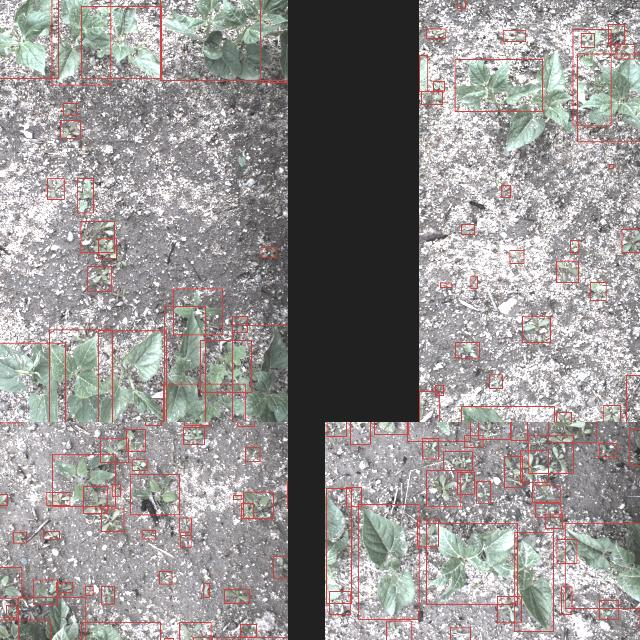crop: (159, 0, 288, 79), (426, 522, 516, 604), (358, 504, 418, 618), (564, 522, 640, 608), (97, 330, 165, 422), (48, 329, 111, 422), (80, 7, 162, 78), (576, 53, 640, 141), (231, 324, 288, 422), (0, 342, 65, 422), (51, 0, 110, 84), (163, 305, 204, 422), (454, 59, 542, 111), (0, 0, 57, 77), (514, 532, 552, 630), (17, 596, 85, 640), (326, 488, 350, 602), (260, 0, 288, 82), (460, 405, 554, 422), (80, 622, 159, 640), (0, 619, 50, 640), (418, 390, 438, 422), (418, 54, 428, 92)
weed: (572, 29, 610, 126), (163, 382, 245, 422), (52, 454, 115, 506), (199, 340, 251, 392), (172, 288, 222, 334), (130, 474, 180, 514), (528, 435, 574, 473), (426, 469, 460, 506), (406, 422, 469, 440), (80, 220, 114, 252), (548, 422, 596, 442), (520, 451, 548, 482), (243, 491, 273, 517), (522, 316, 550, 342), (100, 438, 128, 462), (0, 566, 21, 597), (32, 578, 56, 604), (82, 486, 106, 512), (497, 596, 521, 622), (442, 450, 472, 470), (179, 621, 210, 640), (87, 266, 111, 290), (100, 508, 124, 532), (417, 520, 438, 546), (77, 178, 93, 212), (504, 456, 522, 486), (556, 538, 576, 564), (385, 620, 411, 640), (478, 422, 510, 438), (328, 590, 349, 614), (556, 260, 578, 282), (532, 485, 560, 501), (621, 228, 640, 251), (350, 422, 370, 443), (535, 502, 561, 518), (373, 422, 407, 434), (629, 427, 640, 464), (598, 599, 618, 619), (182, 426, 204, 444), (126, 428, 144, 450), (456, 472, 474, 494), (455, 341, 479, 357), (224, 589, 250, 603), (98, 238, 116, 258), (46, 178, 64, 198), (60, 120, 80, 138), (273, 555, 288, 577), (608, 23, 624, 43), (422, 438, 438, 458), (476, 480, 490, 502), (603, 404, 620, 422), (510, 422, 527, 440), (421, 90, 442, 104), (589, 281, 605, 299), (544, 512, 562, 528), (326, 422, 346, 436), (346, 486, 360, 506), (561, 586, 571, 614), (46, 492, 68, 504), (450, 627, 470, 640), (244, 446, 260, 462), (616, 44, 634, 58), (100, 585, 114, 603), (598, 442, 616, 456), (502, 30, 526, 40), (463, 435, 482, 447), (232, 315, 246, 331), (488, 374, 502, 388), (580, 33, 594, 47), (158, 570, 172, 584), (240, 624, 256, 636), (241, 502, 253, 518), (426, 28, 444, 38), (62, 102, 76, 114), (509, 250, 523, 262), (179, 517, 191, 531), (42, 530, 58, 540), (56, 582, 72, 592), (132, 458, 146, 469), (555, 412, 570, 422), (262, 247, 276, 257), (12, 532, 26, 542), (461, 224, 474, 234), (500, 184, 510, 196), (6, 605, 16, 617), (180, 535, 190, 547), (141, 530, 155, 538), (432, 80, 443, 90), (570, 240, 578, 252), (111, 484, 119, 496), (433, 385, 442, 395), (470, 274, 476, 288), (203, 583, 209, 597), (0, 493, 6, 504), (84, 586, 92, 594), (232, 494, 242, 500), (457, 0, 465, 7), (439, 282, 451, 286), (145, 422, 161, 425), (163, 637, 172, 640), (608, 163, 614, 167)
